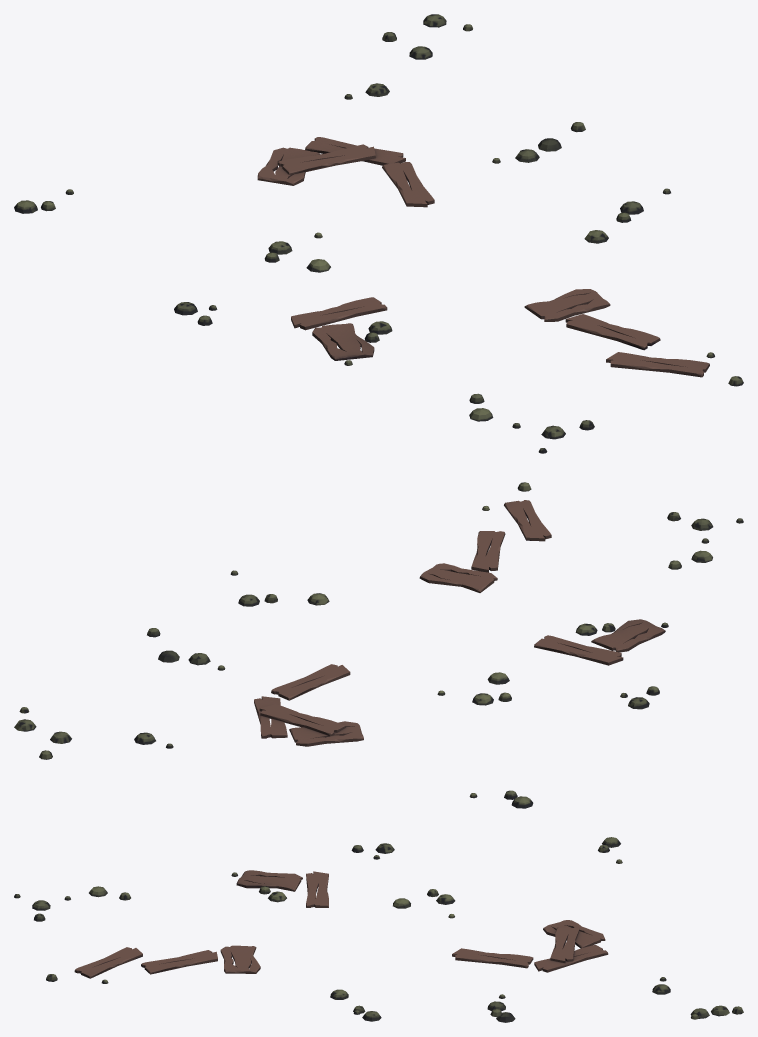
The model's file is Wood_01.FBX.
The picture shows the model from 3 angles, top to bottom: view 1: azimuth 30°, elevation 25°; view 2: azimuth 150°, elevation 25°; view 3: azimuth 270°, elevation 25°; orthographic projection. The views are drawn at different scales.
Parts seen in each view (by area): view 1: Wood_01; view 2: Wood_01; view 3: Wood_01.
Boxes of the visible parts, x1,y1,x2,y2 form: Wood_01: (14, 14, 743, 453); Wood_01: (14, 482, 743, 808); Wood_01: (14, 837, 743, 1022).
Bounding box in the file's own units: 16.18 × 0.7786 × 25.5.
